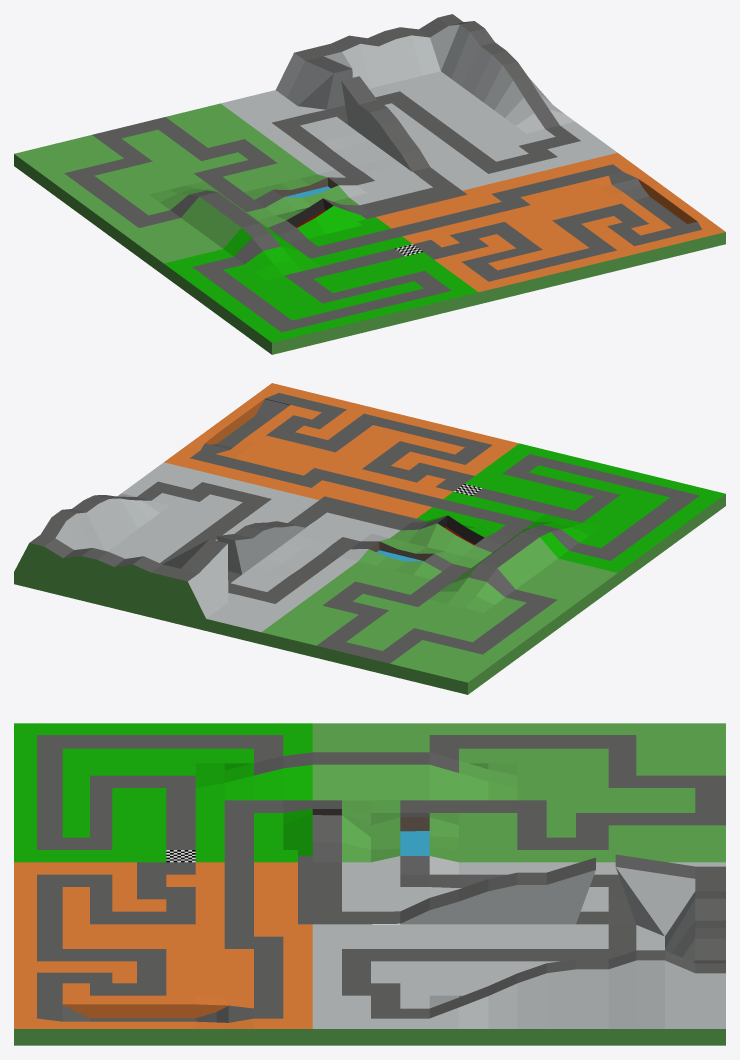
Rendered from planeScene2_1.fbx.
3 views of the same model, one above another, from view 1: azimuth 30°, elevation 25°; view 2: azimuth 150°, elevation 25°; view 3: azimuth 270°, elevation 25° (orthographic). The views are drawn at different scales.
Visible parts, largest first — view 1: Plane; view 2: Plane; view 3: Plane.
Part boxes in pixels (x1=…): Plane: x1=14, y1=14, x2=725, y2=354; Plane: x1=14, y1=383, x2=725, y2=694; Plane: x1=14, y1=723, x2=725, y2=1045.
Size of the model in its own units: 14586 by 1887 by 14363.
11 materials, 3 textured.
